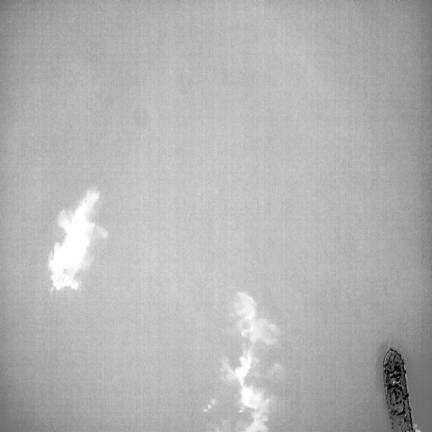flukeprints: (49, 189, 107, 289), (236, 293, 278, 343), (241, 386, 268, 431), (234, 350, 252, 387)
